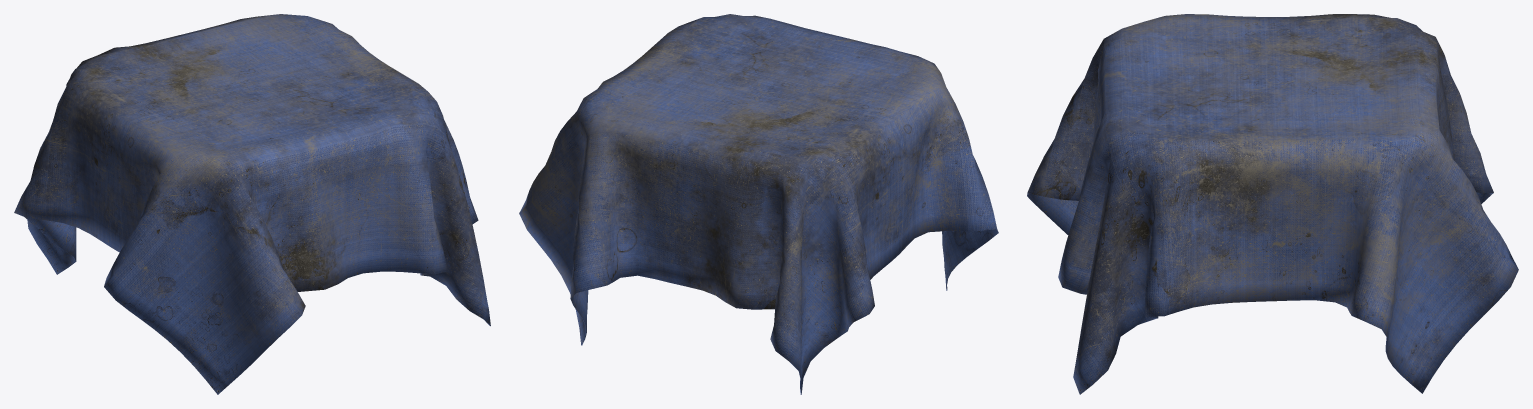
Rendered from Vai.fbx.
3 renders of one model, left to right at view 1: azimuth 30°, elevation 25°; view 2: azimuth 150°, elevation 25°; view 3: azimuth 270°, elevation 25°, orthographic. The views are drawn at different scales.
Parts seen in each view (by area): view 1: Tarp; view 2: Tarp; view 3: Tarp.
Part boxes in pixels (x1=…): Tarp: x1=14, y1=14, x2=490, y2=394; Tarp: x1=519, y1=14, x2=998, y2=394; Tarp: x1=1027, y1=14, x2=1518, y2=394.
Size of the model in its own units: 194 by 114 by 197.
Materials: 1 (1 with a texture image).
